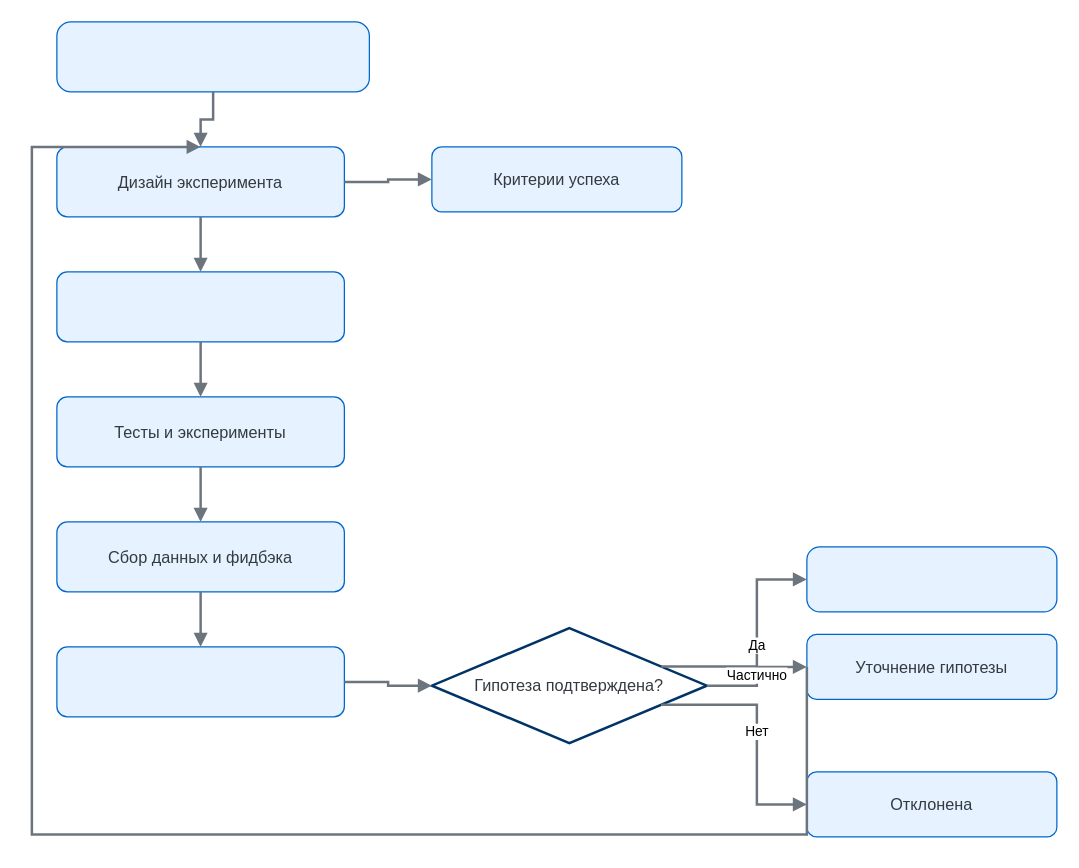
The diagram is 1079 pixels wide and 868 high, and some of its shapes have lost their labels. The shapes that lost their labels are listed below. From the top down, each one's centre as x and y in pixels, then its label:
pixel 212 56: Приоритизированные гипотезы
pixel 200 306: Методы валидации
pixel 931 579: Подтверждена
pixel 200 681: Анализ результатов
